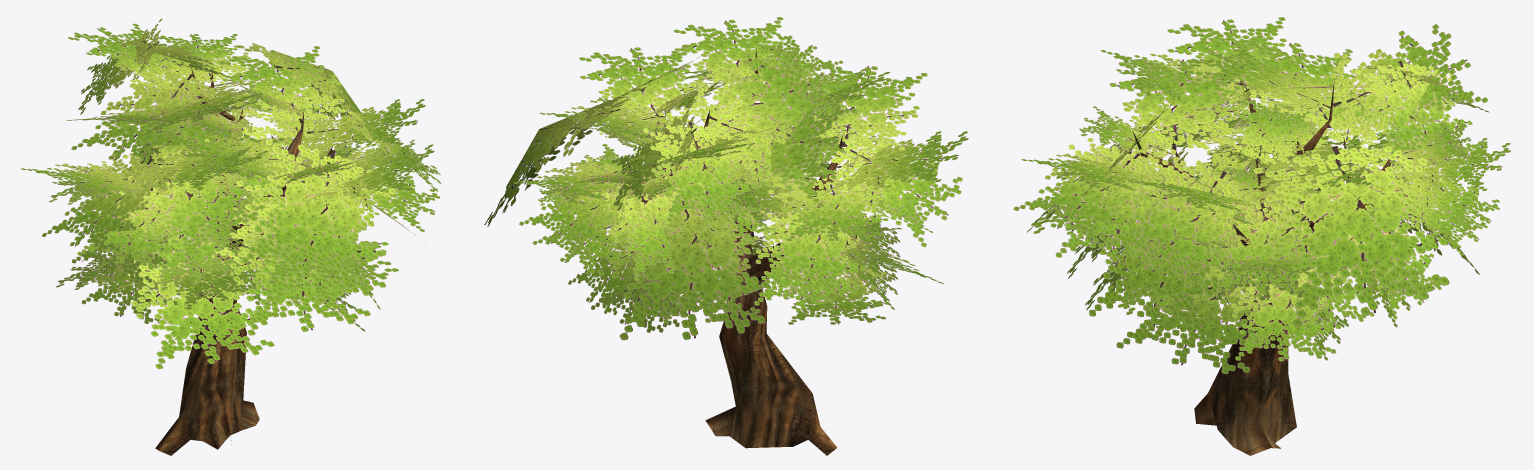
File: n_SWEwtree05.glb
3 renders of one model, left to right at view 1: azimuth 30°, elevation 25°; view 2: azimuth 150°, elevation 25°; view 3: azimuth 270°, elevation 25°, orthographic. The views are drawn at different scales.
Parts seen in each view (by area): view 1: n_SWEwtree05; view 2: n_SWEwtree05; view 3: n_SWEwtree05.
Part boxes in pixels (bbox=[...]): n_SWEwtree05: bbox=[21, 18, 440, 455]; n_SWEwtree05: bbox=[484, 17, 968, 455]; n_SWEwtree05: bbox=[1013, 17, 1510, 455].
Bounding box in the file's own units: 2.96 × 2.55 × 3.07.
Materials: 3 (3 with a texture image).
